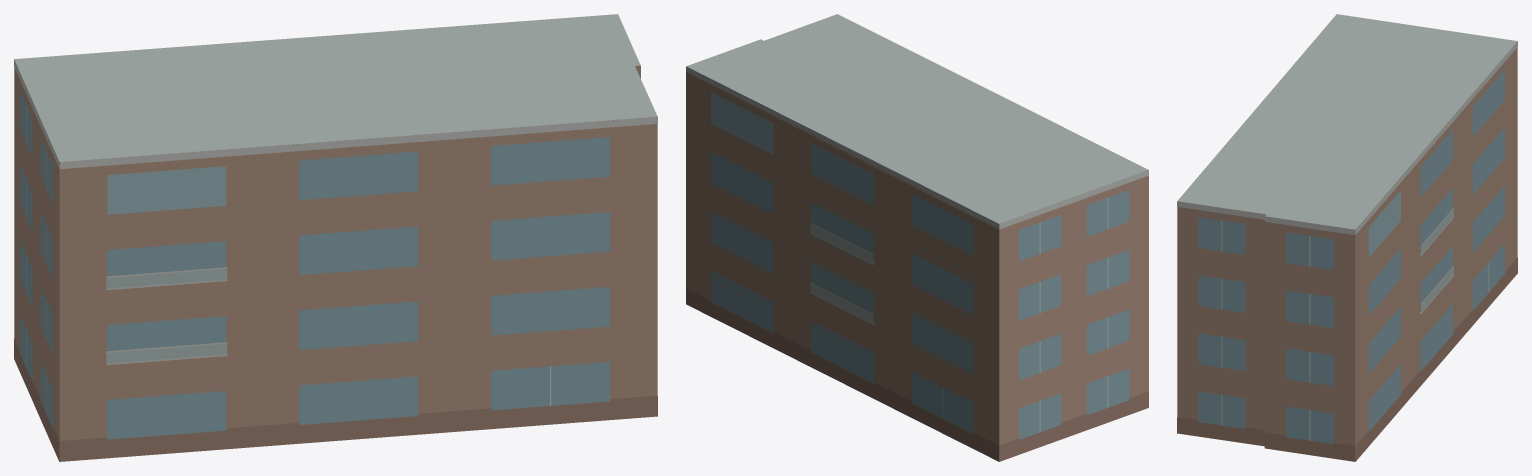
The model's file is survey-upis-32953632.glb.
The picture shows the model from 3 angles, left to right: view 1: azimuth 30°, elevation 25°; view 2: azimuth 150°, elevation 25°; view 3: azimuth 270°, elevation 25°; orthographic projection. The views are drawn at different scales.
Visible parts, largest first — view 1: survey-upis-32953632.tmp; view 2: survey-upis-32953632.tmp; view 3: survey-upis-32953632.tmp.
Boxes of the visible parts, x1,y1,x2,y2 form: survey-upis-32953632.tmp: [14, 14, 657, 461]; survey-upis-32953632.tmp: [686, 14, 1148, 461]; survey-upis-32953632.tmp: [1177, 14, 1517, 461].
Size of the model in its own units: 20.34 by 10.2 by 13.58.
